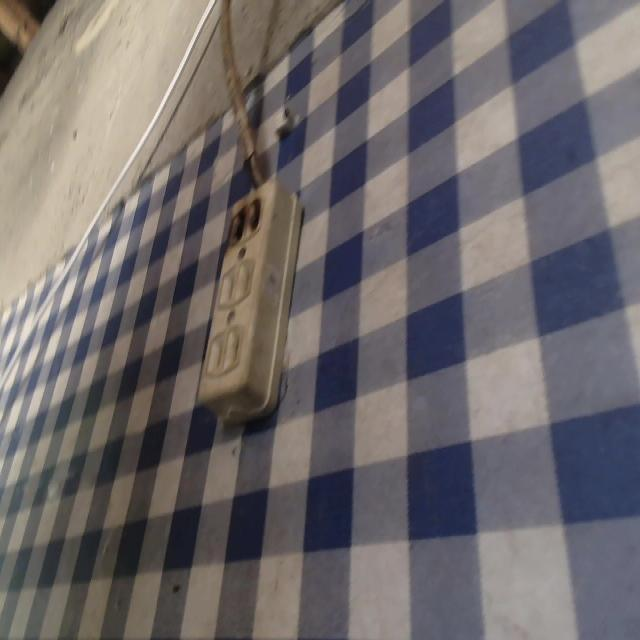-: (224, 198, 265, 242)
